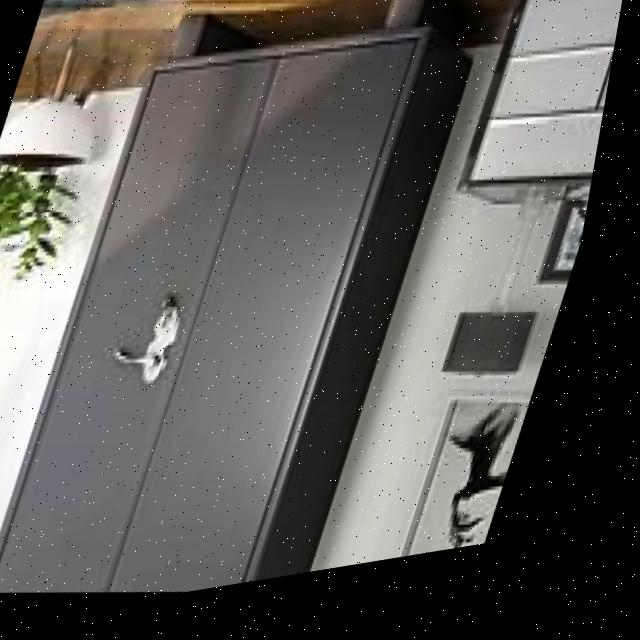dolap: (0, 0, 513, 629)
